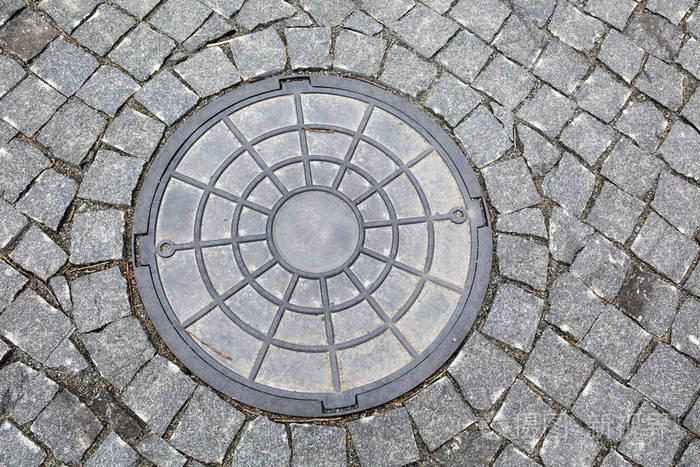wellcover: (135, 85, 510, 436)
